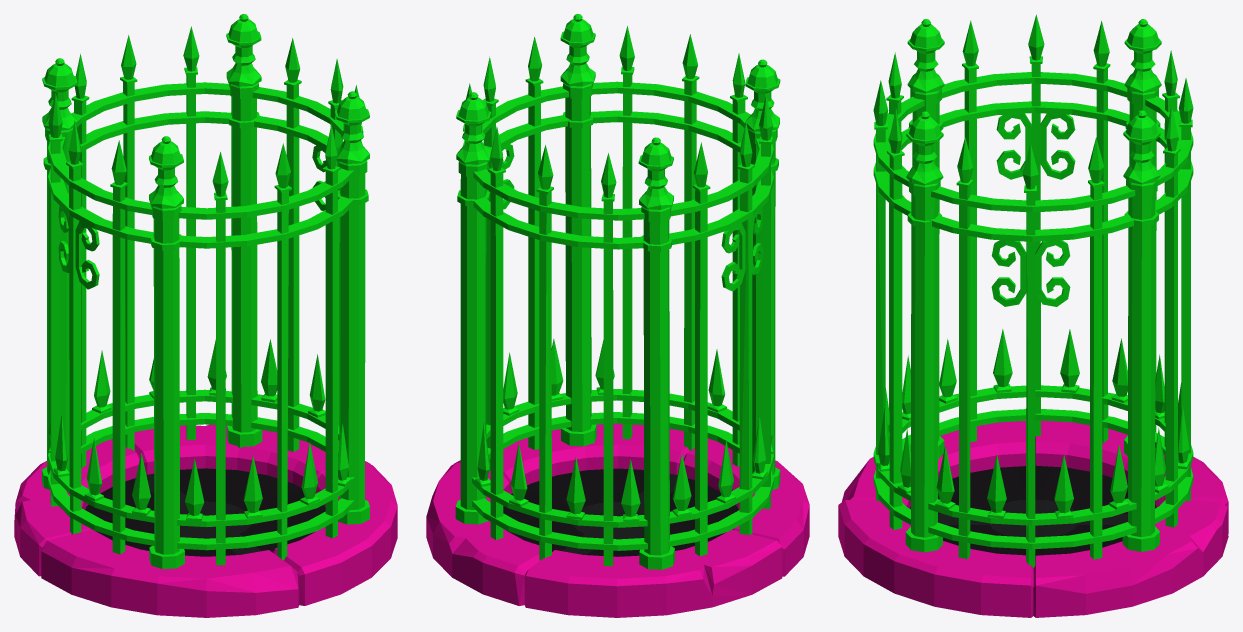
File: City_Fence02.fbx
The picture shows the model from 3 angles, left to right: view 1: azimuth 30°, elevation 25°; view 2: azimuth 150°, elevation 25°; view 3: azimuth 270°, elevation 25°; orthographic projection. The views are drawn at different scales.
Parts seen in each view (by area): view 1: SM_City_Fence_04_02c.mo; view 2: SM_City_Fence_04_02c.mo; view 3: SM_City_Fence_04_02c.mo.
Boxes of the visible parts, x1,y1,x2,y2 form: SM_City_Fence_04_02c.mo: [14, 14, 397, 617]; SM_City_Fence_04_02c.mo: [426, 14, 809, 617]; SM_City_Fence_04_02c.mo: [838, 14, 1228, 617].
Bounding box in the file's own units: 150 × 200 × 150.
